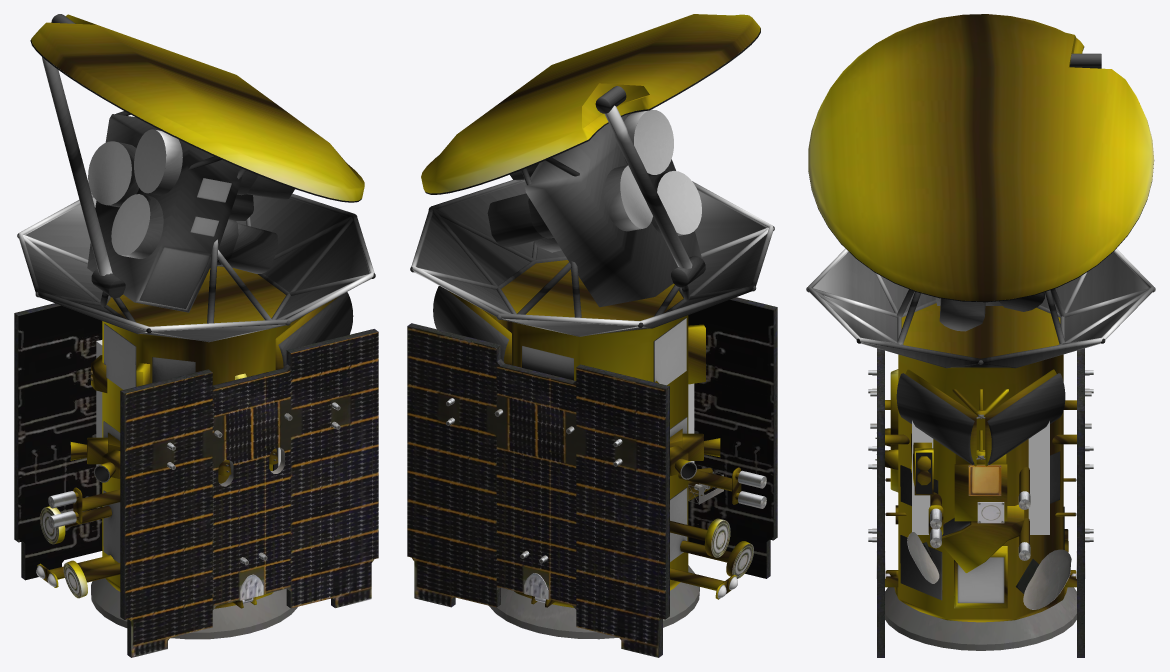
File: aquarius-b.glb
3 renders of one model, left to right at view 1: azimuth 30°, elevation 25°; view 2: azimuth 150°, elevation 25°; view 3: azimuth 270°, elevation 25°, orthographic. The views are drawn at different scales.
Visible parts, largest first — view 1: shiny_panel_left, foil_silver, foil_gold, tex_02, AO_other_ud, tex_01, tex_black; view 2: shiny_panel_right, foil_silver, foil_gold, tex_02, tex_01, AO_other_ud, tex_black; view 3: foil_gold, foil_silver, tex_01, AO_other_ud, Cube.004, tex_black.
Part boxes in pixels (x1,y1,x2,y2): shiny_panel_left: (124, 332, 378, 657); foil_silver: (17, 14, 375, 366); foil_gold: (31, 14, 364, 608); tex_02: (18, 305, 233, 580); AO_other_ud: (36, 129, 278, 587); tex_01: (14, 303, 378, 657); tex_black: (30, 40, 361, 481); shiny_panel_right: (407, 326, 665, 657); foil_silver: (410, 86, 774, 361); foil_gold: (421, 14, 760, 607); tex_02: (669, 299, 773, 615); tex_01: (407, 297, 777, 657); AO_other_ud: (522, 109, 737, 598); tex_black: (425, 28, 760, 478); foil_gold: (808, 14, 1154, 622); foil_silver: (806, 53, 1155, 464); tex_01: (868, 348, 1093, 657); AO_other_ud: (900, 451, 1064, 603); Cube.004: (912, 420, 1049, 534); tex_black: (808, 46, 1154, 493).
Size of the model in its own units: 2.53 by 4.27 by 2.53.
7 materials, 7 textured.
